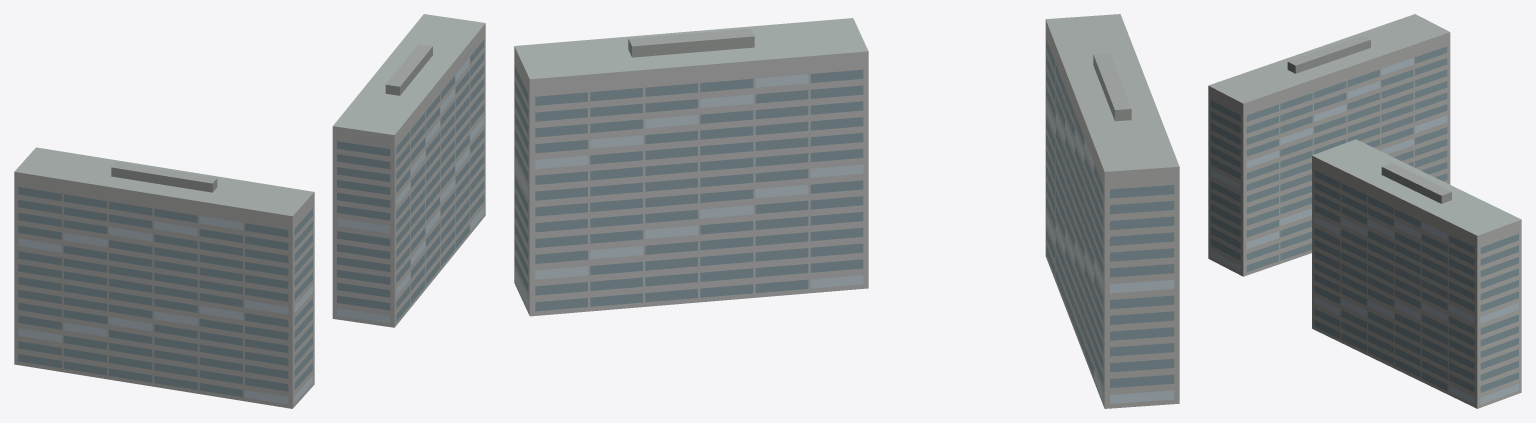
File: apt-a15885303.glb
The picture shows the model from 3 angles, left to right: view 1: azimuth 30°, elevation 25°; view 2: azimuth 150°, elevation 25°; view 3: azimuth 270°, elevation 25°; orthographic projection. The views are drawn at different scales.
Visible parts, largest first — view 1: apt-a15885303; view 2: apt-a15885303; view 3: apt-a15885303.
Part boxes in pixels (left/top/right/bottom): apt-a15885303: left=14, top=14, right=485, bottom=408; apt-a15885303: left=514, top=14, right=1179, bottom=408; apt-a15885303: left=1208, top=14, right=1521, bottom=408.
Bounding box in the file's own units: 108 × 41 × 64.28.
